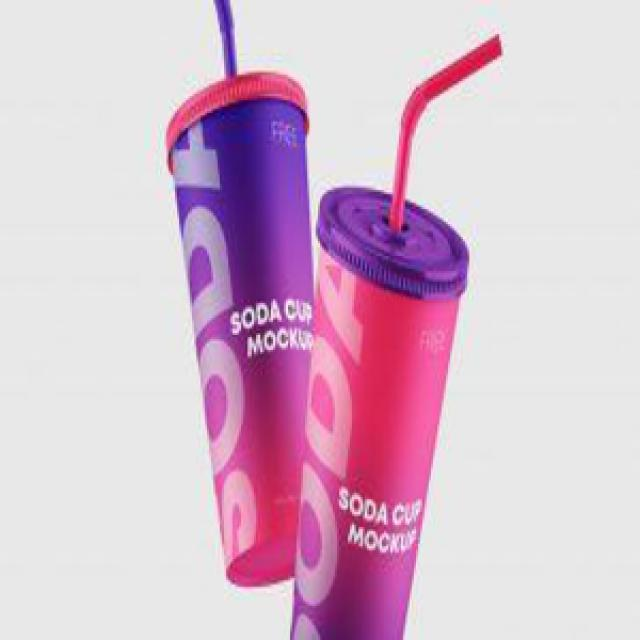plastic cup: (162, 68, 331, 593), (286, 181, 471, 640)
